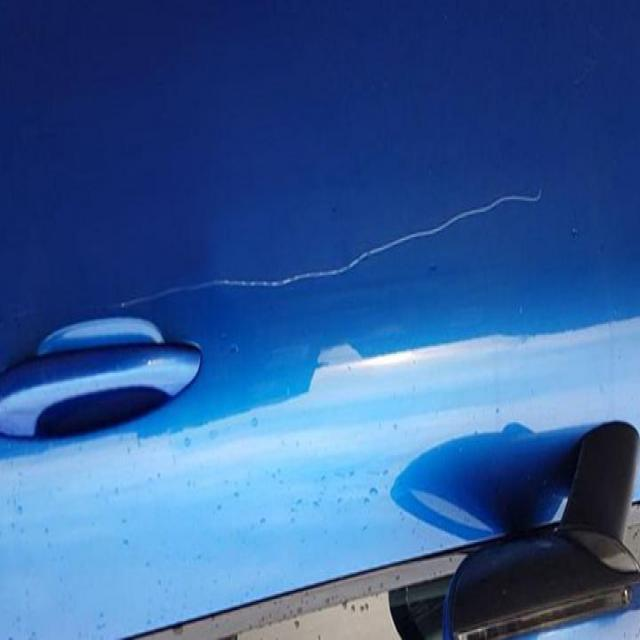scratch: (106, 165, 560, 334)
